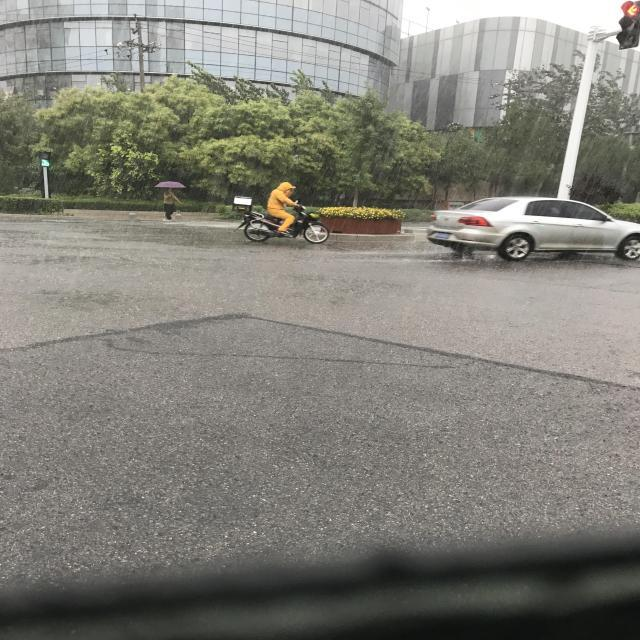car: (190, 1, 269, 220)
